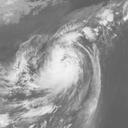cyclone: (24, 33, 99, 105)
